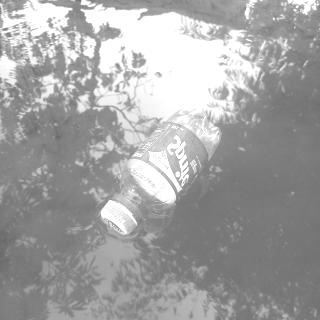bottle: (100, 108, 222, 235)
